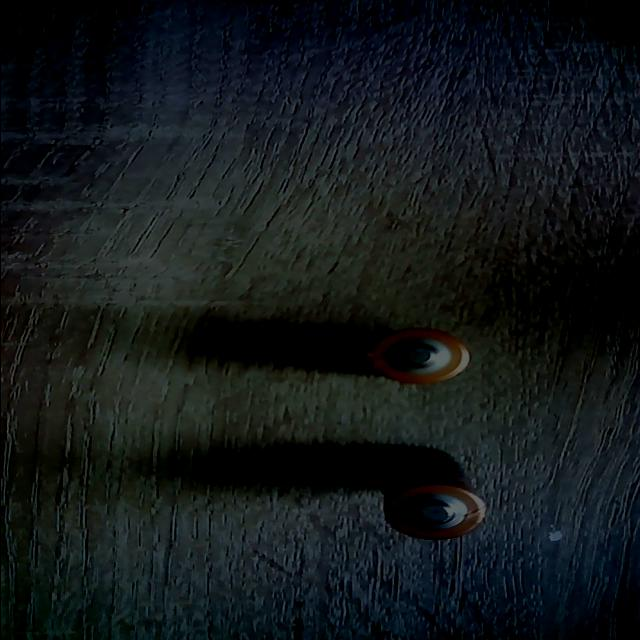AA: (378, 444, 488, 542), (364, 328, 472, 383)
